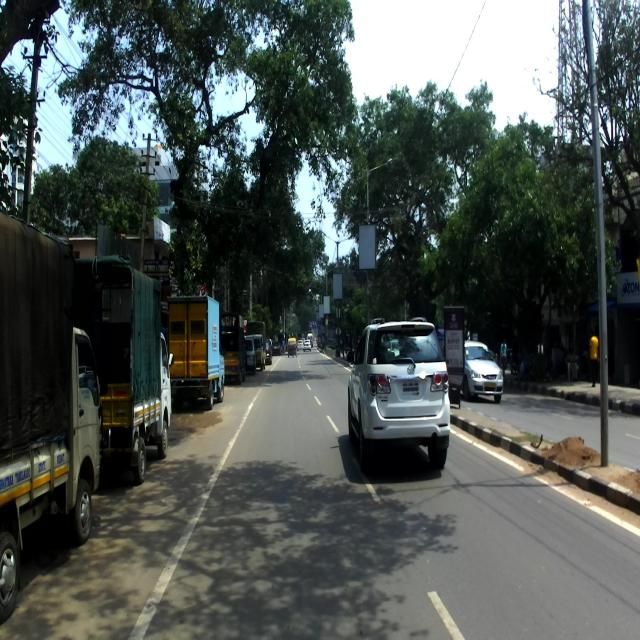Car_TATA: (463, 339, 503, 406)
Car_Toyota: (346, 316, 450, 473)
truck: (0, 192, 106, 623), (69, 240, 175, 496)
